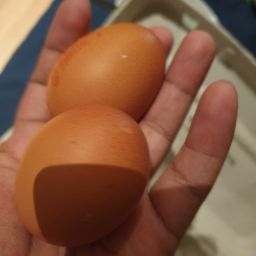Eggs: (7, 101, 158, 246), (6, 98, 167, 228), (15, 18, 171, 127)
